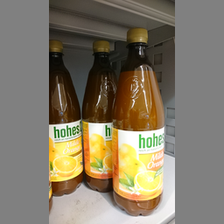juice: (108, 27, 165, 215), (82, 40, 117, 192), (50, 40, 83, 197)
